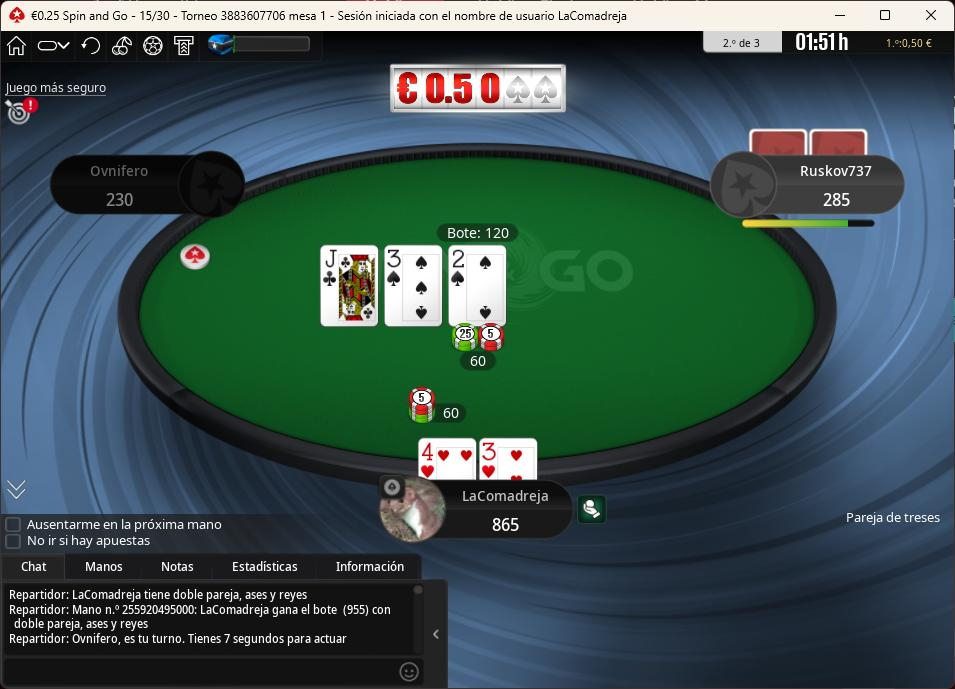Dealer: (180, 243, 215, 273)
HiddenCards: (747, 127, 866, 157)
Player: (711, 151, 910, 220), (46, 151, 245, 214)
PlayerChips: (483, 519, 532, 537), (816, 192, 861, 210), (96, 192, 141, 209)
Pot: (437, 222, 520, 243)
PrincipalBet: (405, 387, 475, 427)
PrincipalCards: (416, 437, 540, 485)
PrincipalCards1: (417, 436, 481, 482)
PrincipalCards2: (479, 436, 543, 482)
PrincipalPlayer: (376, 473, 577, 542)
ShowedCards: (320, 248, 508, 332)
ShowedCards1: (319, 245, 384, 331)
ShowedCards2: (384, 246, 446, 330)
ShowedCards3: (446, 243, 511, 329)
SmallBigBlind: (128, 4, 181, 24)
TablePot: (428, 324, 526, 379)
